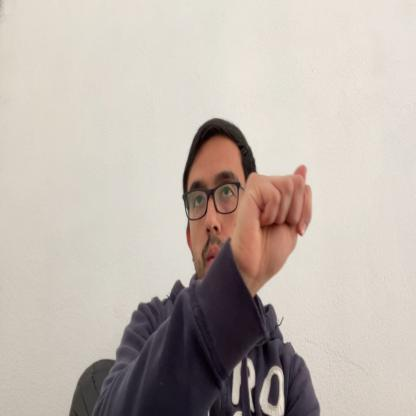T: (235, 164, 311, 291)
